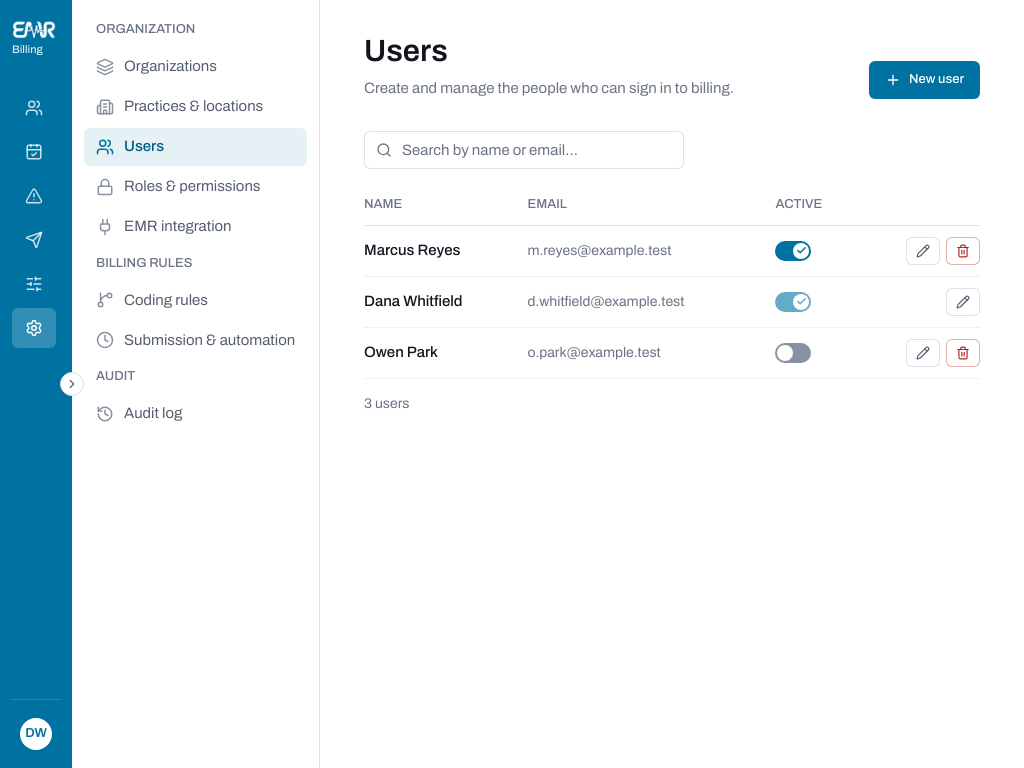
Admin → Users › creates a user with exactly the entered values, starting active, and says so in the server words
Click the button "New user" at point(924, 80), box [869,61,980,99]
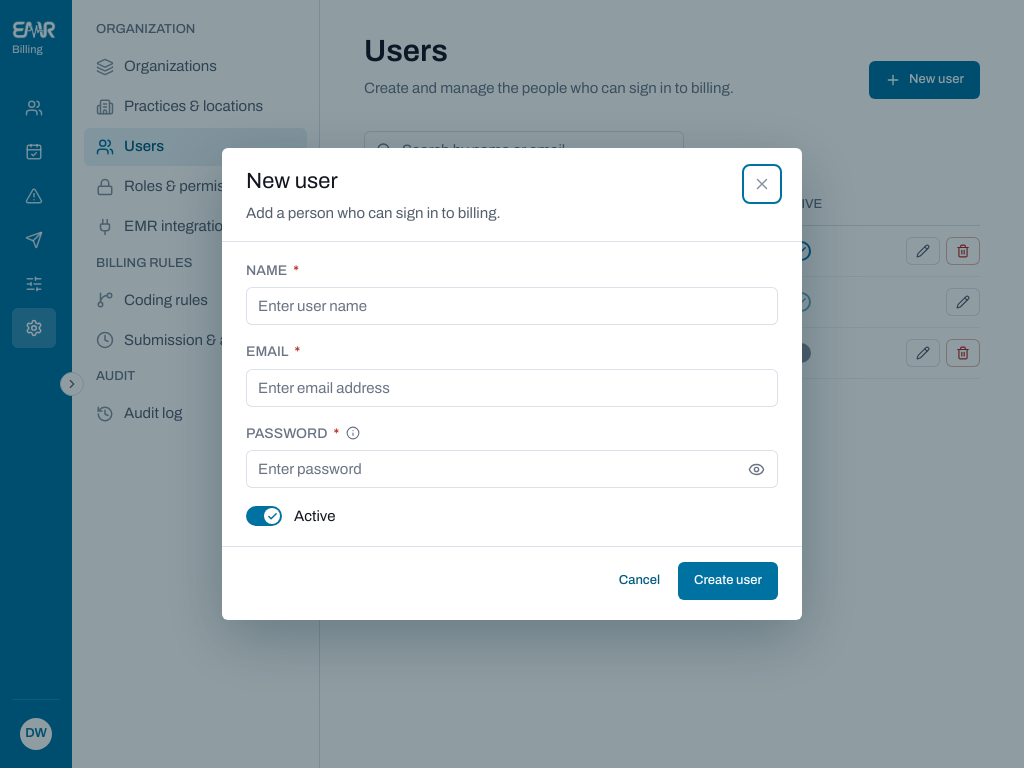
Expected: the switch named "Active" is checked, [246,506,282,526]
Type "Ada Lin" into the field labelled "Name *" at point(512, 306), box [258,287,766,325]
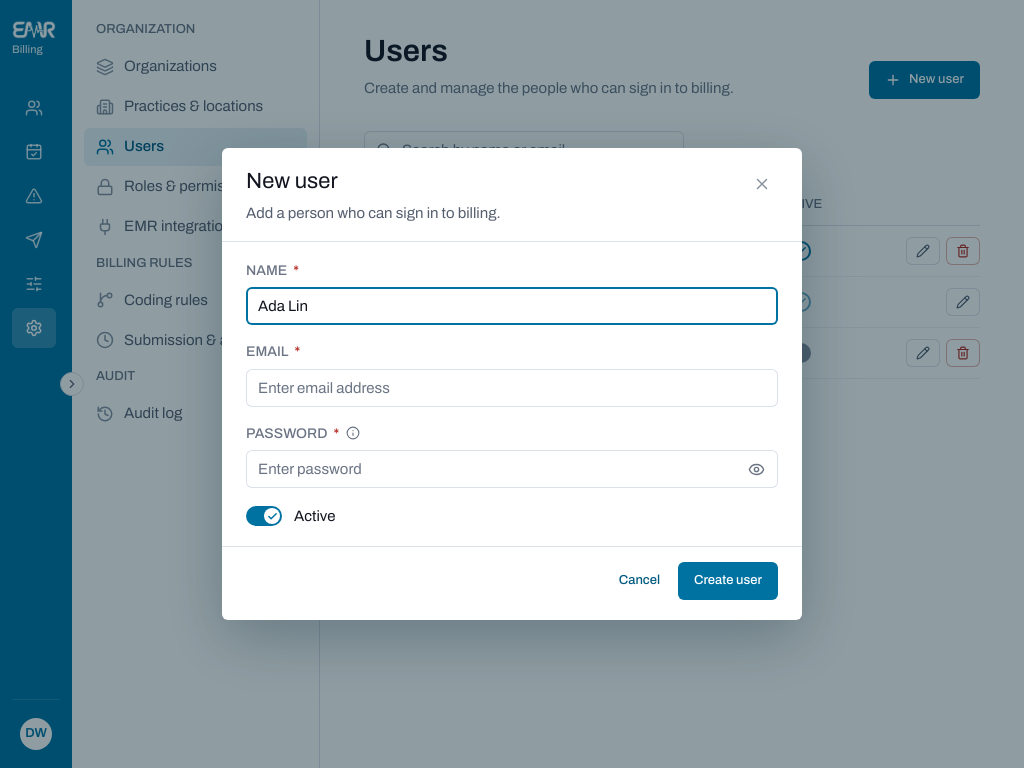
Type "ada@example.test" into the field labelled "Email *" at point(512, 388), box [258,369,766,407]
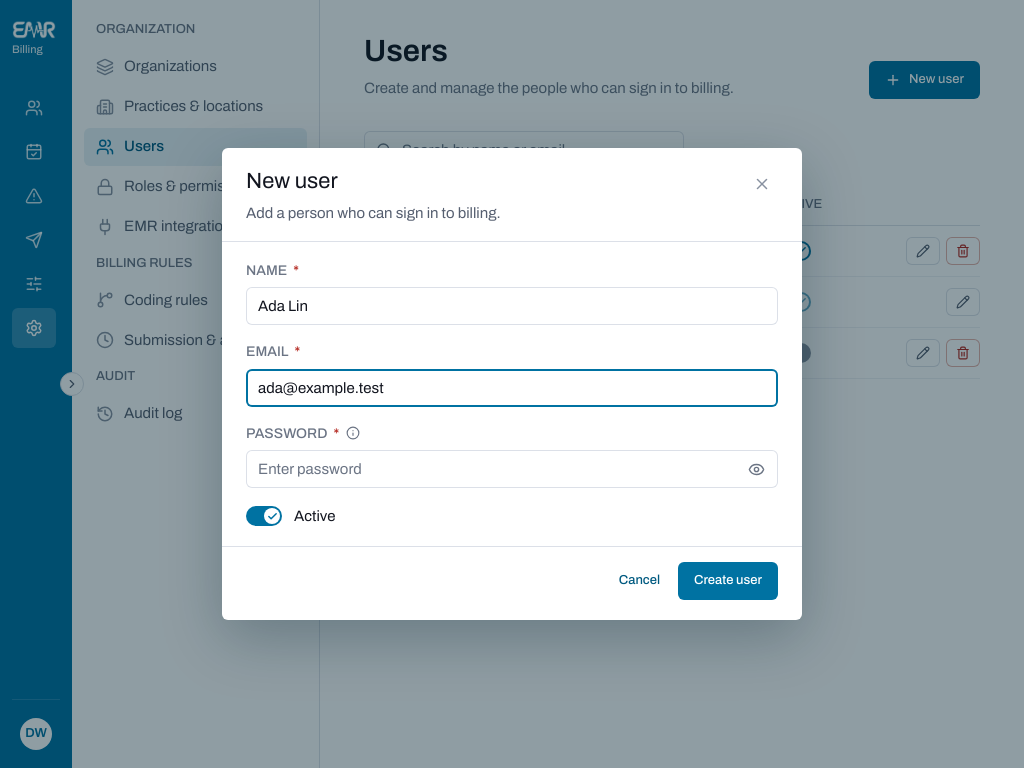
Type "Tr1cky-S3cret" into the password field labelled "Password *" at point(494, 469), box [258,450,730,488]
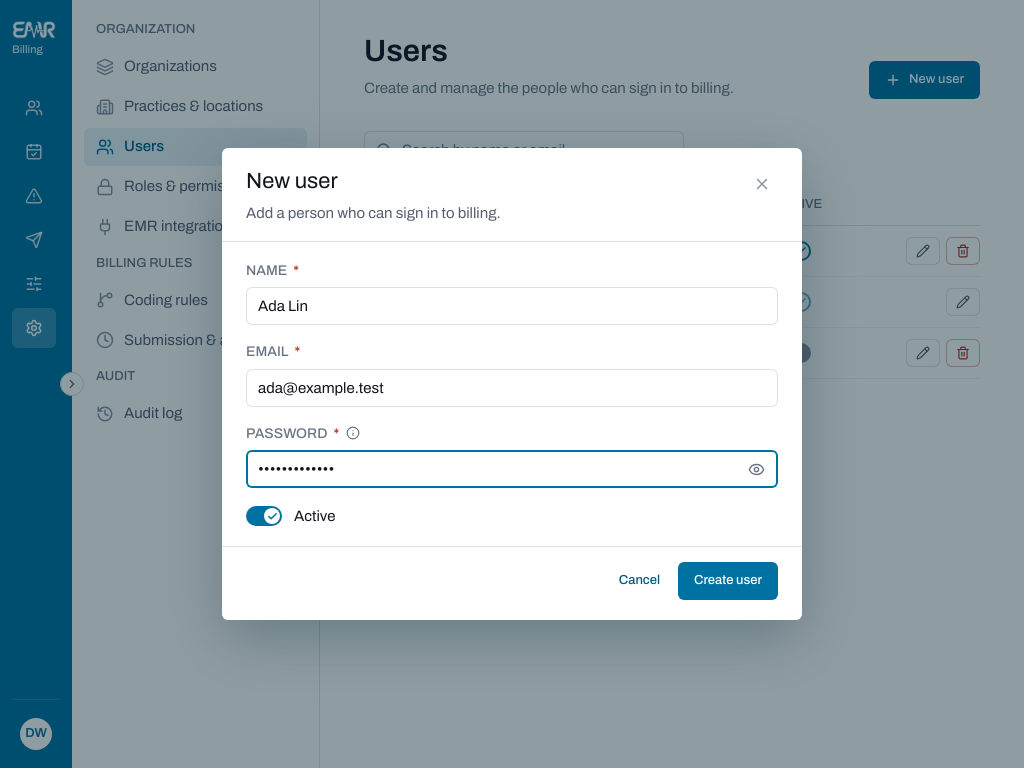
Click the switch named "Active" at point(264, 516), box [246,506,282,526]
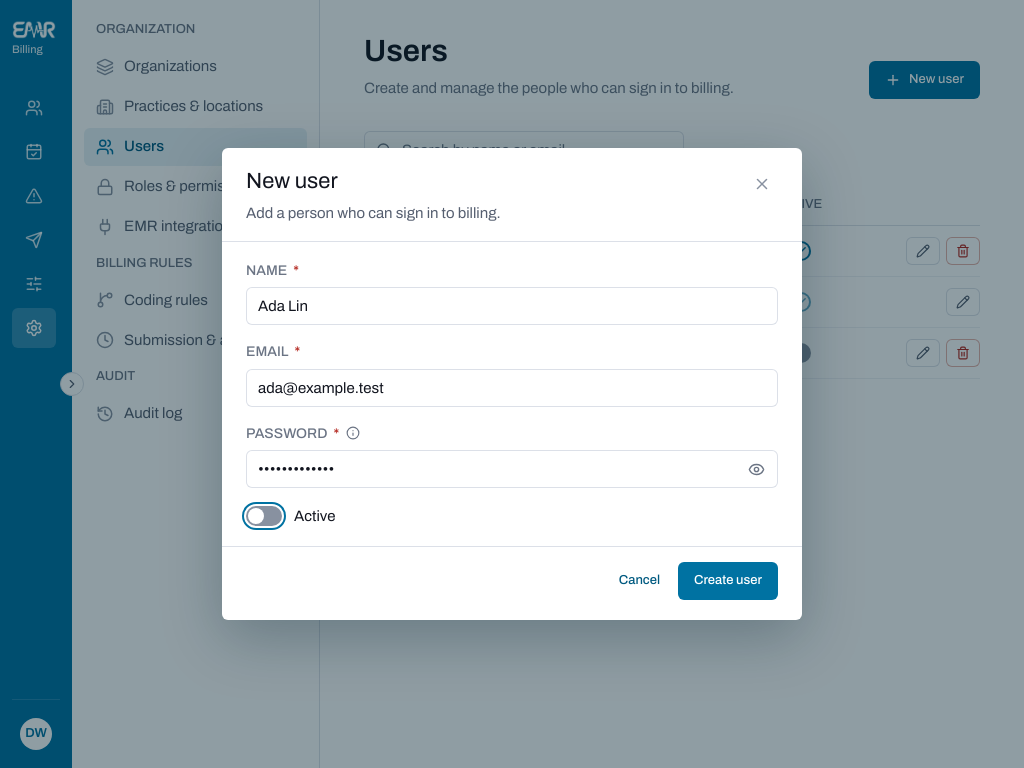
Click the button "Create user" at point(728, 581), box [678,562,778,600]
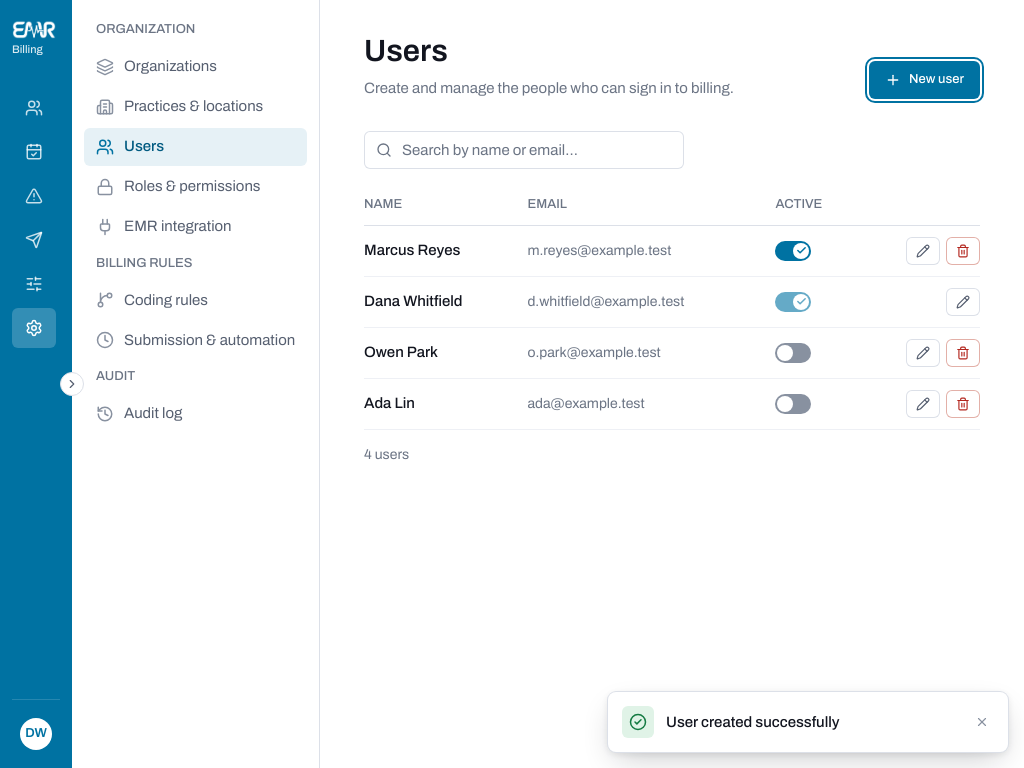
Expected: the dialog is gone
Expected: the message reads "User created successfully", [666,714,840,730]
Expected: the switch named "Ada Lin: active" in the row of "Ada Lin" is not checked, [776,394,812,414]
